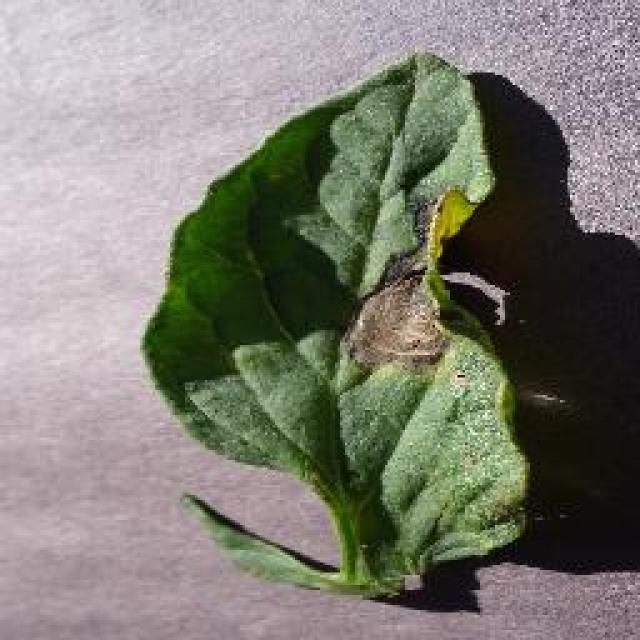leaf blight: (138, 54, 531, 597)
